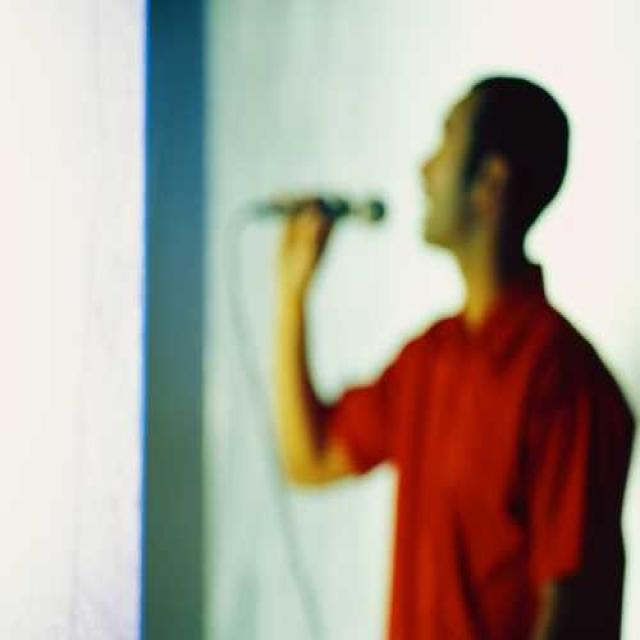microphone: (246, 187, 393, 233)
